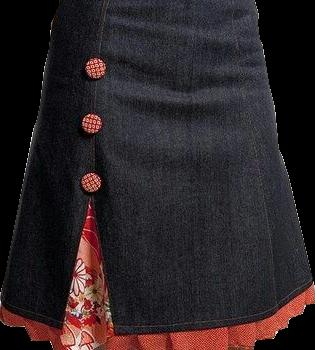Hemline: (0, 193, 313, 337), (0, 300, 314, 349)
Waistline: (60, 0, 256, 3)
